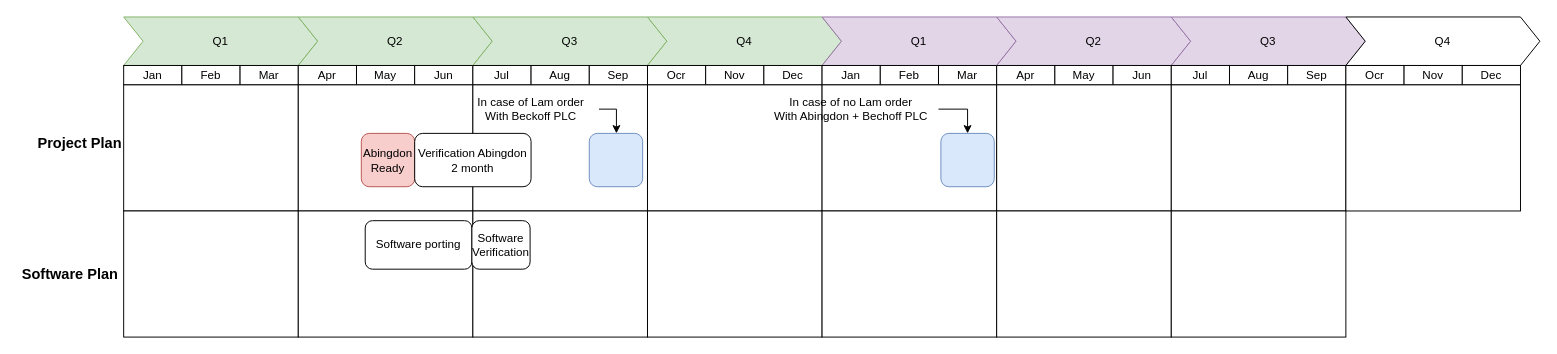
The diagram is 1557 pixels wide and 354 high, and some of its shapes have lost their labels. The shapes that lost their labels are listed below. From the top down, each one's centre as x and y in pixels, then its label:
At (615,159): "Gate 5 A".
At (967,159): "Gate 5 B".
